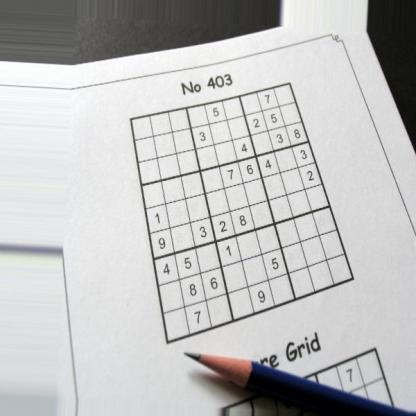sudoku: (126, 80, 358, 345)
